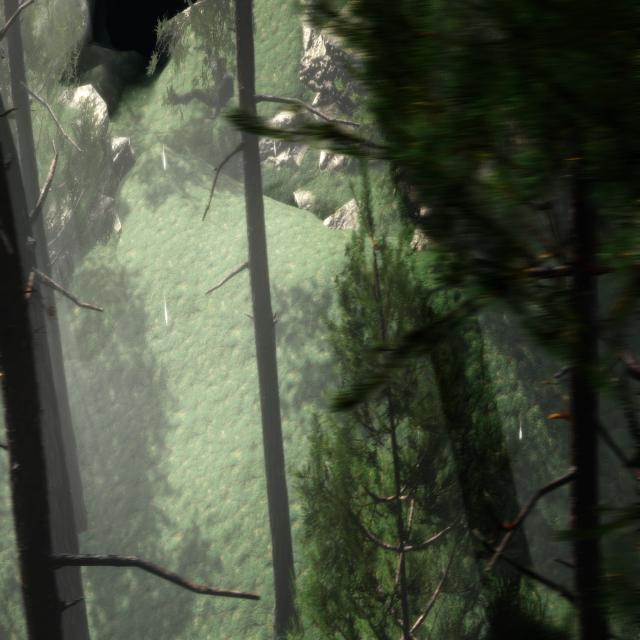Human: (161, 42, 235, 114)
